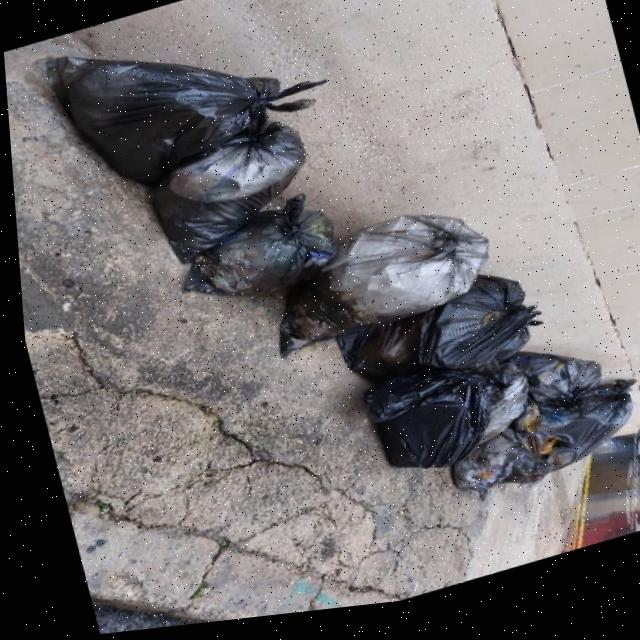Mixed Waste -Black Bag-: (42, 10, 290, 201), (244, 203, 504, 368), (421, 342, 613, 509), (134, 123, 321, 275), (328, 286, 534, 407), (165, 205, 339, 320), (355, 366, 502, 490), (482, 390, 635, 499)
